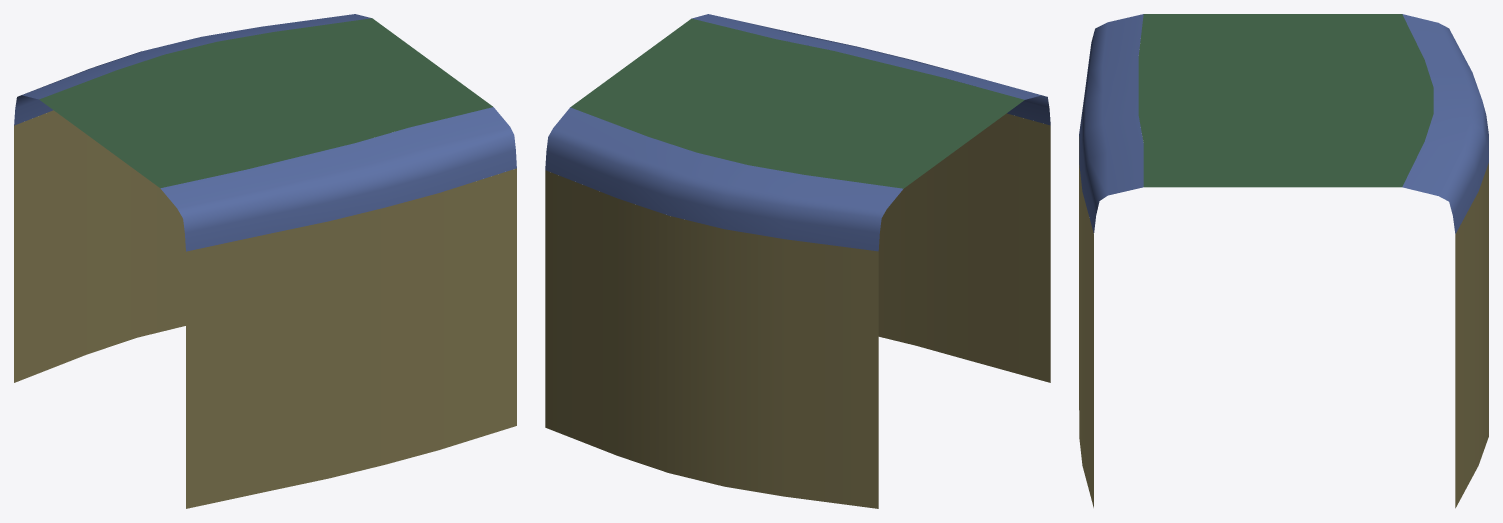
Rendered from Primera_plat.fbx.
3 renders of one model, left to right at view 1: azimuth 30°, elevation 25°; view 2: azimuth 150°, elevation 25°; view 3: azimuth 270°, elevation 25°, orthographic. The views are drawn at different scales.
Visible parts, largest first — view 1: Primera_plat, Ground2, Wall2; view 2: Primera_plat, Ground2, Wall2; view 3: Ground2, Wall2, Primera_plat.
Part boxes in pixels (x1,y1,x2,y2): Primera_plat: (14, 110, 516, 508); Ground2: (39, 18, 492, 188); Wall2: (14, 14, 516, 251); Primera_plat: (545, 113, 1050, 508); Ground2: (570, 18, 1024, 188); Wall2: (545, 14, 1050, 251); Ground2: (1138, 14, 1433, 187); Wall2: (1079, 14, 1488, 233); Primera_plat: (1079, 136, 1488, 508).
Size of the model in its own units: 5811 by 5028 by 5804.
